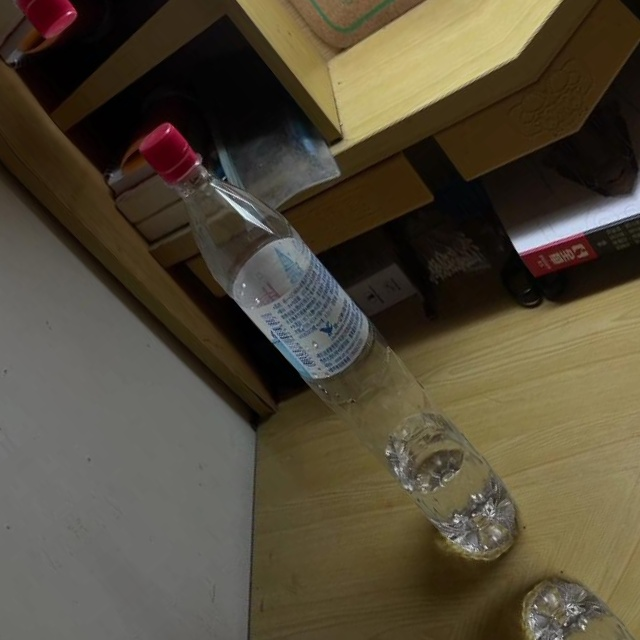Water: (117, 103, 543, 586)
